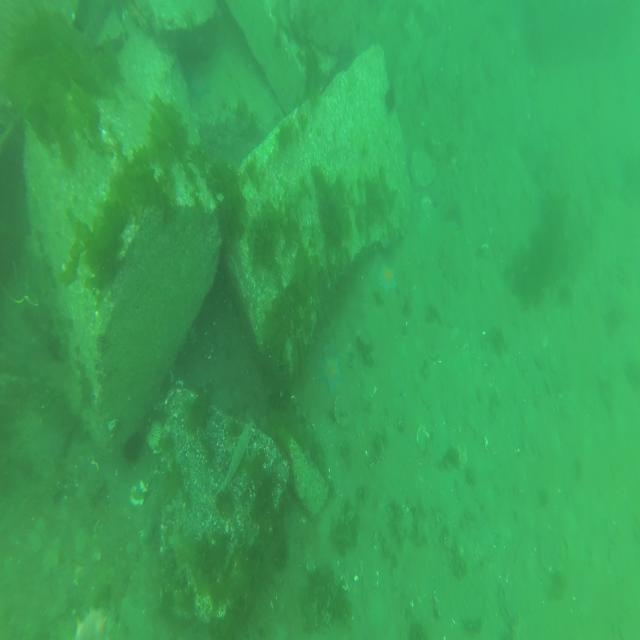echinus: (122, 431, 145, 463), (45, 333, 62, 361), (384, 84, 396, 113)
holothurian: (74, 607, 111, 640)
scallop: (334, 392, 352, 426), (147, 419, 164, 450), (416, 423, 430, 451), (420, 194, 434, 218)
starfish: (322, 353, 343, 395), (377, 259, 398, 295), (190, 75, 211, 101)
